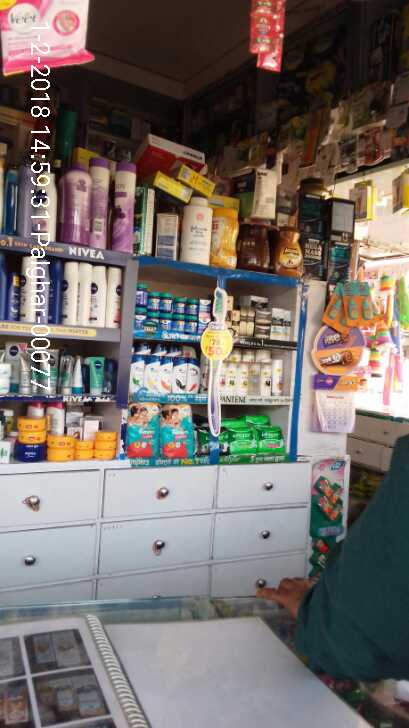vicks: (135, 284, 210, 333)
